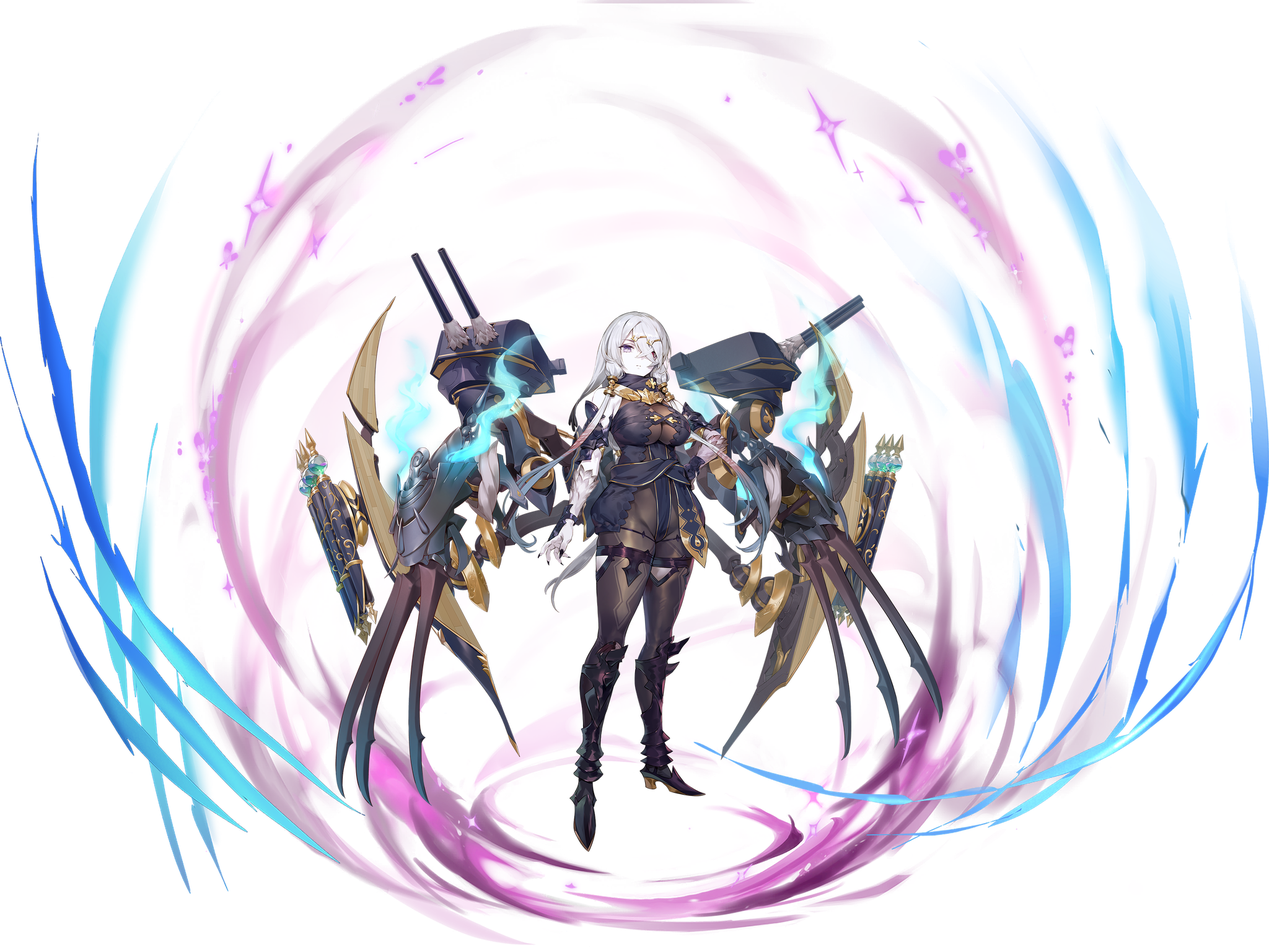person: (500, 281, 763, 876)
